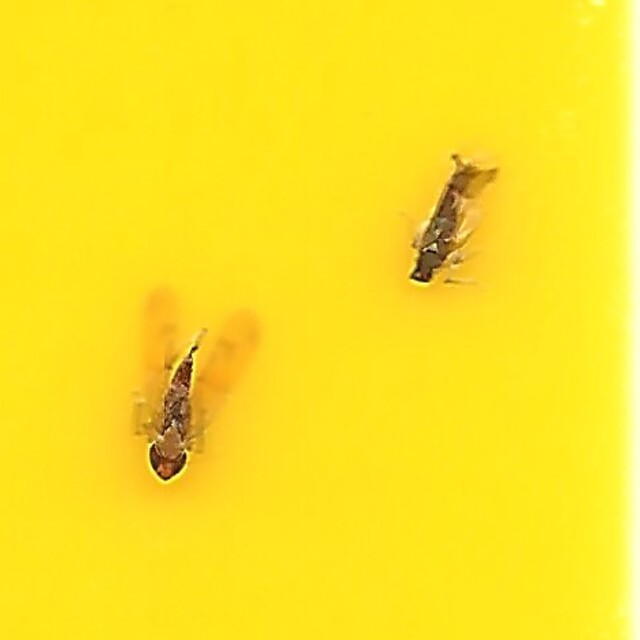Brachycera: (410, 150, 504, 291)
Hemiptera: (136, 294, 260, 490)
